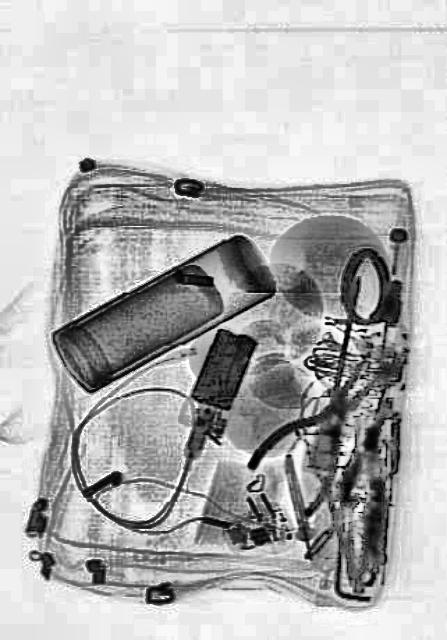Pliers: (243, 323, 405, 533)
